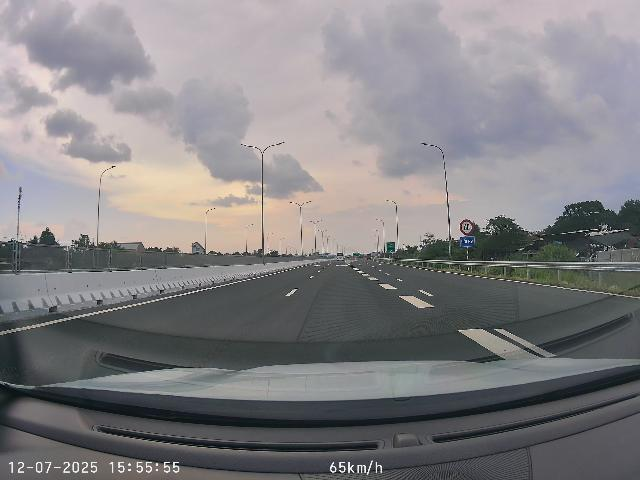127-toc-do-toi-da-60: (459, 219, 474, 235)
